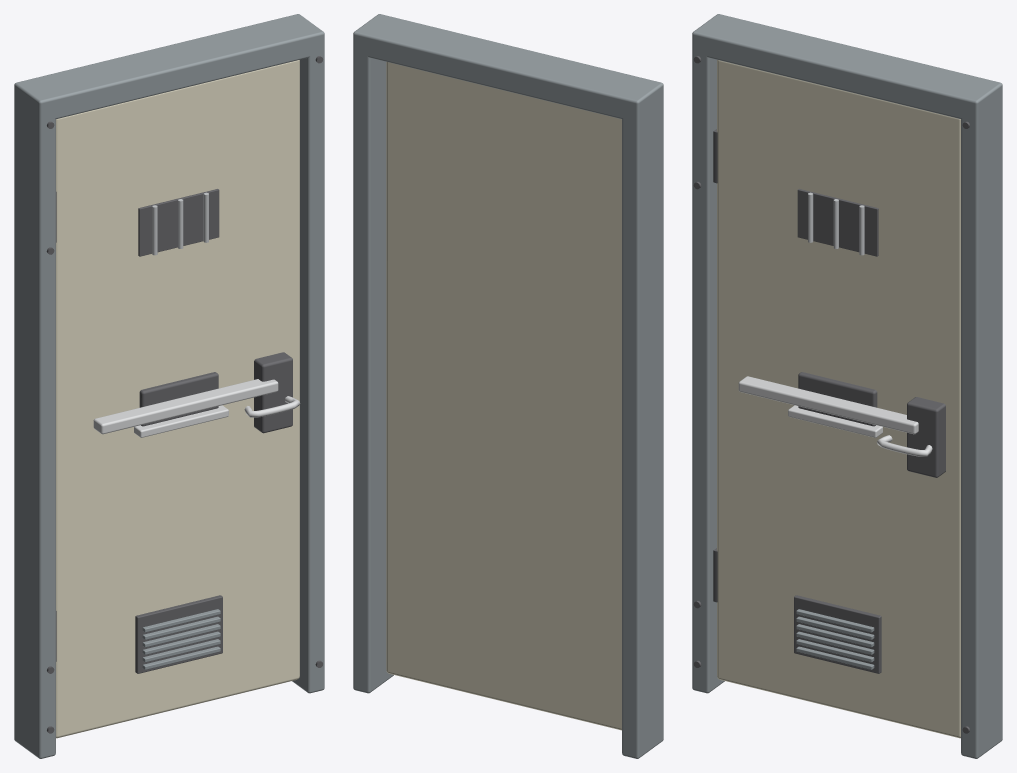
File: prison-complex-builder-evacuation-door-ba2df6d9__25596.glb
3 renders of one model, left to right at view 1: azimuth 30°, elevation 25°; view 2: azimuth 150°, elevation 25°; view 3: azimuth 330°, elevation 25°, orthographic.
Parts seen in each view (by area): view 1: cell-door/paintCream, evacuation-door, cell-door/steelDark, cell-door/stainless, cell-door/steelPainted, cell-door/steelGalv; view 2: cell-door/paintCream, evacuation-door; view 3: cell-door/paintCream, evacuation-door, cell-door/steelDark, cell-door/stainless, cell-door/steelPainted, cell-door/steelGalv.
Part boxes in pixels (<box>): cell-door/paintCream: <box>56,60,299,738</box>; evacuation-door: <box>14,14,324,758</box>; cell-door/steelDark: <box>135,189,292,673</box>; cell-door/stainless: <box>93,379,300,437</box>; cell-door/steelPainted: <box>142,609,220,669</box>; cell-door/steelGalv: <box>152,192,208,255</box>; cell-door/paintCream: <box>386,62,621,730</box>; evacuation-door: <box>353,14,663,758</box>; cell-door/paintCream: <box>717,60,960,738</box>; evacuation-door: <box>692,14,1002,758</box>; cell-door/steelDark: <box>794,189,945,673</box>; cell-door/stainless: <box>738,376,932,456</box>; cell-door/steelPainted: <box>796,609,874,669</box>; cell-door/steelGalv: <box>808,192,864,255</box>.
Size of the model in its own units: 0.9999 by 2.2 by 0.2517.
